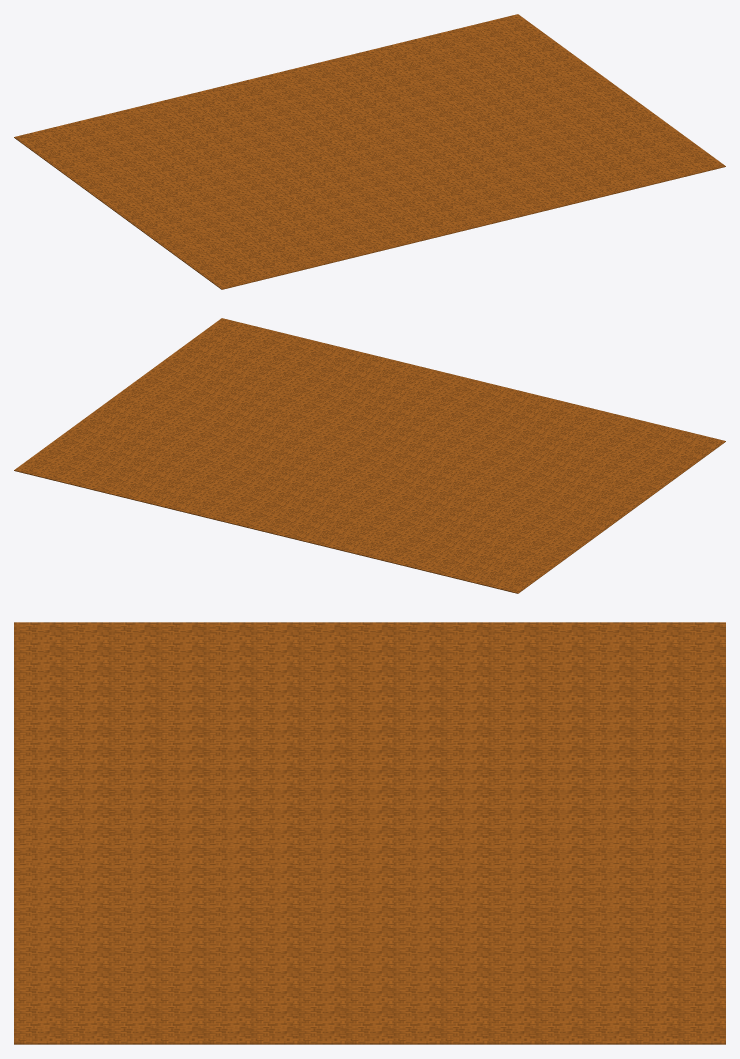
The model's file is testclassroom.glb.
The picture shows the model from 3 angles, top to bottom: view 1: azimuth 30°, elevation 25°; view 2: azimuth 150°, elevation 25°; view 3: azimuth 270°, elevation 25°; orthographic projection. The views are drawn at different scales.
Parts seen in each view (by area): view 1: no part large enough to name; view 2: no part large enough to name; view 3: floorpattern.095, floorpattern.179, floorpattern.011, floorpattern.028, floorpattern.053, floorpattern.070, floorpattern.116, floorpattern.133, floorpattern.196, floorpattern.221, floorpattern.242, floorpattern.284 (+303 smaller).
Boxes of the visible parts, box(x1,y1,x2,y2) form: floorpattern.095: box(393, 1023, 441, 1044); floorpattern.179: box(298, 1023, 346, 1044); floorpattern.011: box(678, 1023, 725, 1044); floorpattern.028: box(631, 1023, 678, 1044); floorpattern.053: box(536, 1023, 583, 1044); floorpattern.070: box(583, 1023, 630, 1044); floorpattern.116: box(441, 1023, 488, 1044); floorpattern.133: box(488, 1023, 535, 1044); floorpattern.196: box(346, 1023, 393, 1044); floorpattern.221: box(156, 1023, 203, 1044); floorpattern.242: box(204, 1023, 251, 1044); floorpattern.284: box(14, 1023, 61, 1044).
Bounding box in the file's own units: 42 × 0.0589 × 30.
315 materials, 315 textured.
